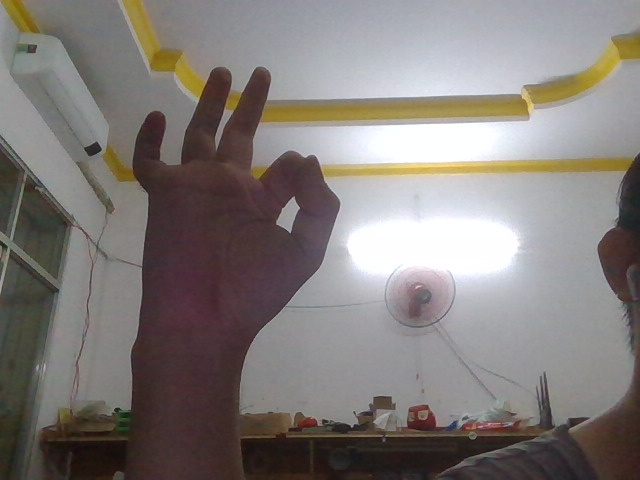okay: (86, 47, 355, 367)
